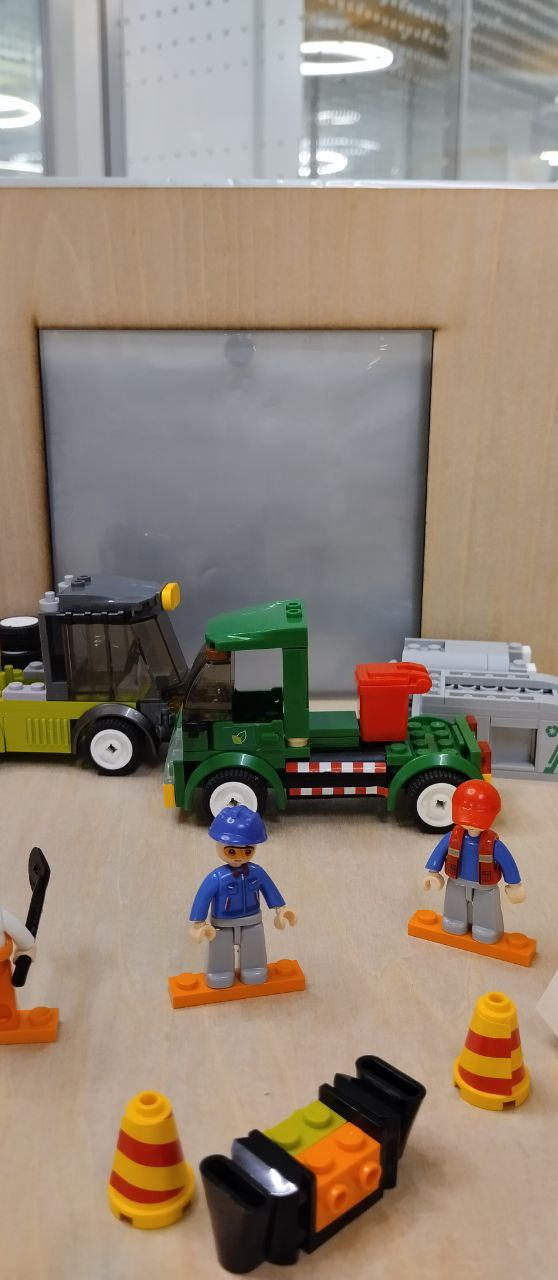Cone: (106, 1091, 200, 1230), (454, 990, 532, 1110)
Crane: (2, 571, 177, 771)
Object Black: (200, 1054, 426, 1279)
Object Red: (352, 659, 431, 746)
Truck: (171, 599, 496, 823)
